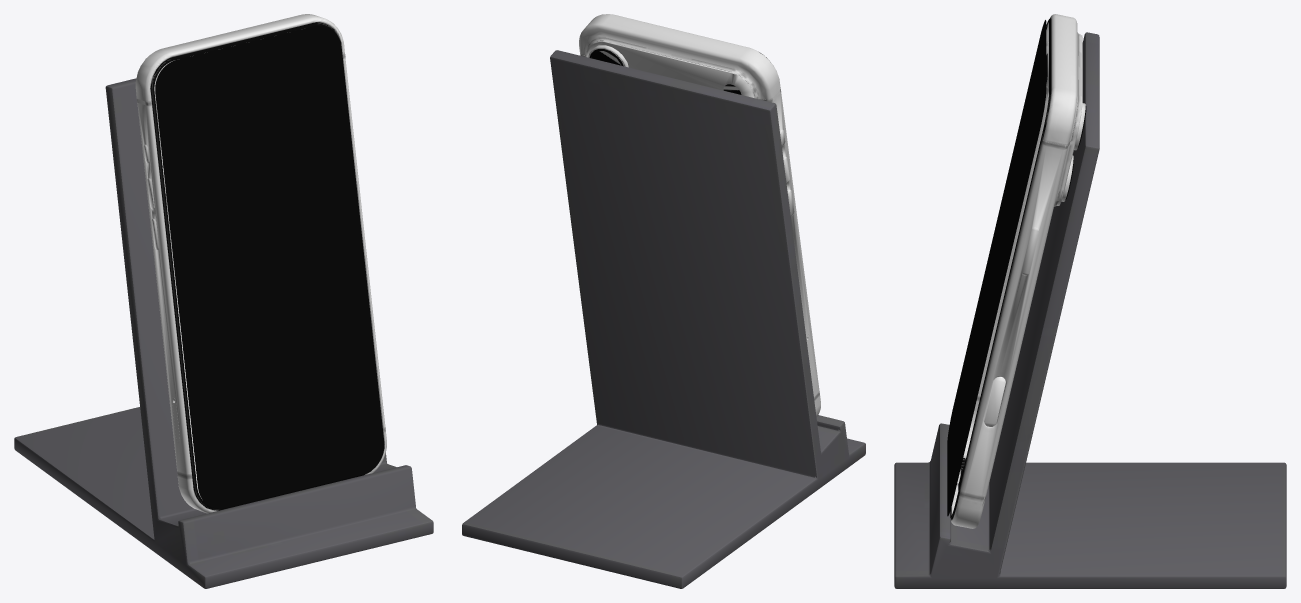
File: house-of-hex.mobile.glb
3 renders of one model, left to right at view 1: azimuth 30°, elevation 25°; view 2: azimuth 150°, elevation 25°; view 3: azimuth 270°, elevation 25°, orthographic. The views are drawn at different scales.
Visible parts, largest first — view 1: screen, stand, phone; view 2: stand, phone; view 3: stand, phone, screen.
Boxes of the visible parts, x1,y1,x2,y2 form: screen: (155, 25, 384, 508); stand: (14, 78, 433, 588); phone: (135, 14, 386, 513); stand: (462, 50, 865, 588); phone: (579, 14, 820, 416); stand: (894, 32, 1286, 588); phone: (950, 14, 1086, 528); screen: (947, 20, 1046, 516).
Bounding box in the file's own units: 0.09 × 0.1759 × 0.13.
3 materials, 2 textured.
